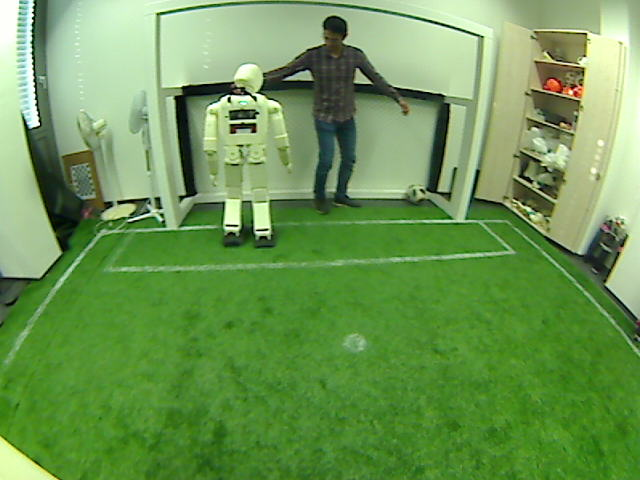ball: (402, 180, 429, 207)
goalpost: (449, 184, 468, 223), (163, 196, 180, 230)
robot: (216, 170, 282, 245)
